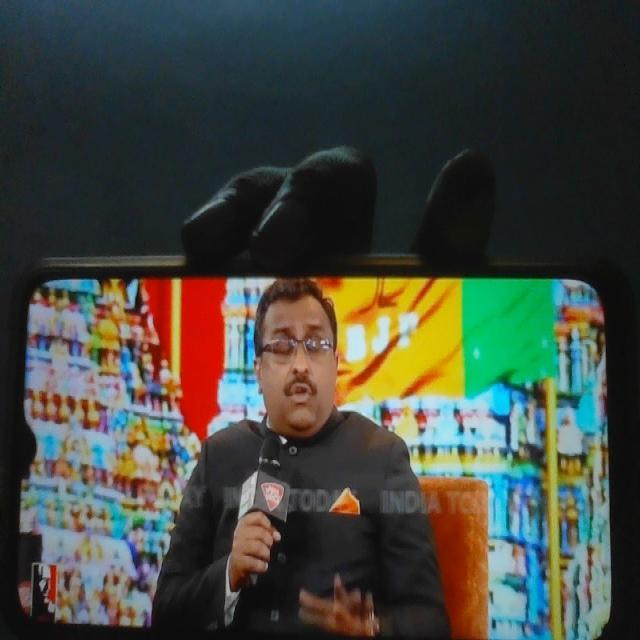fake: (245, 245, 351, 447)
